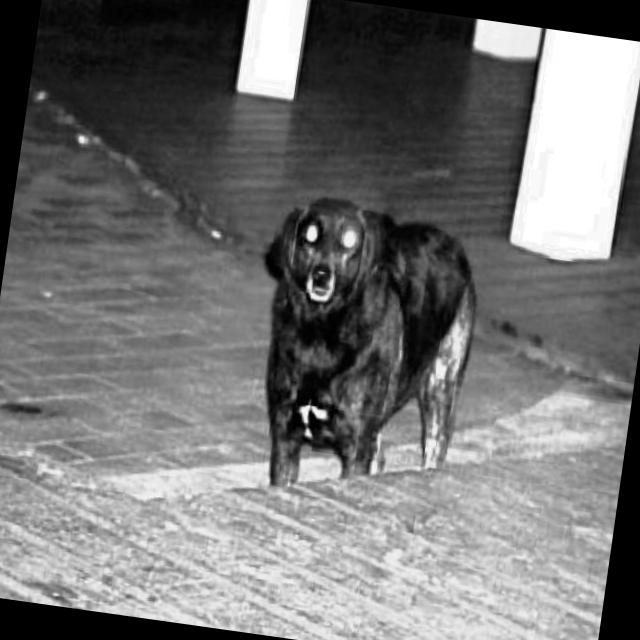Dog: (232, 184, 490, 526)
